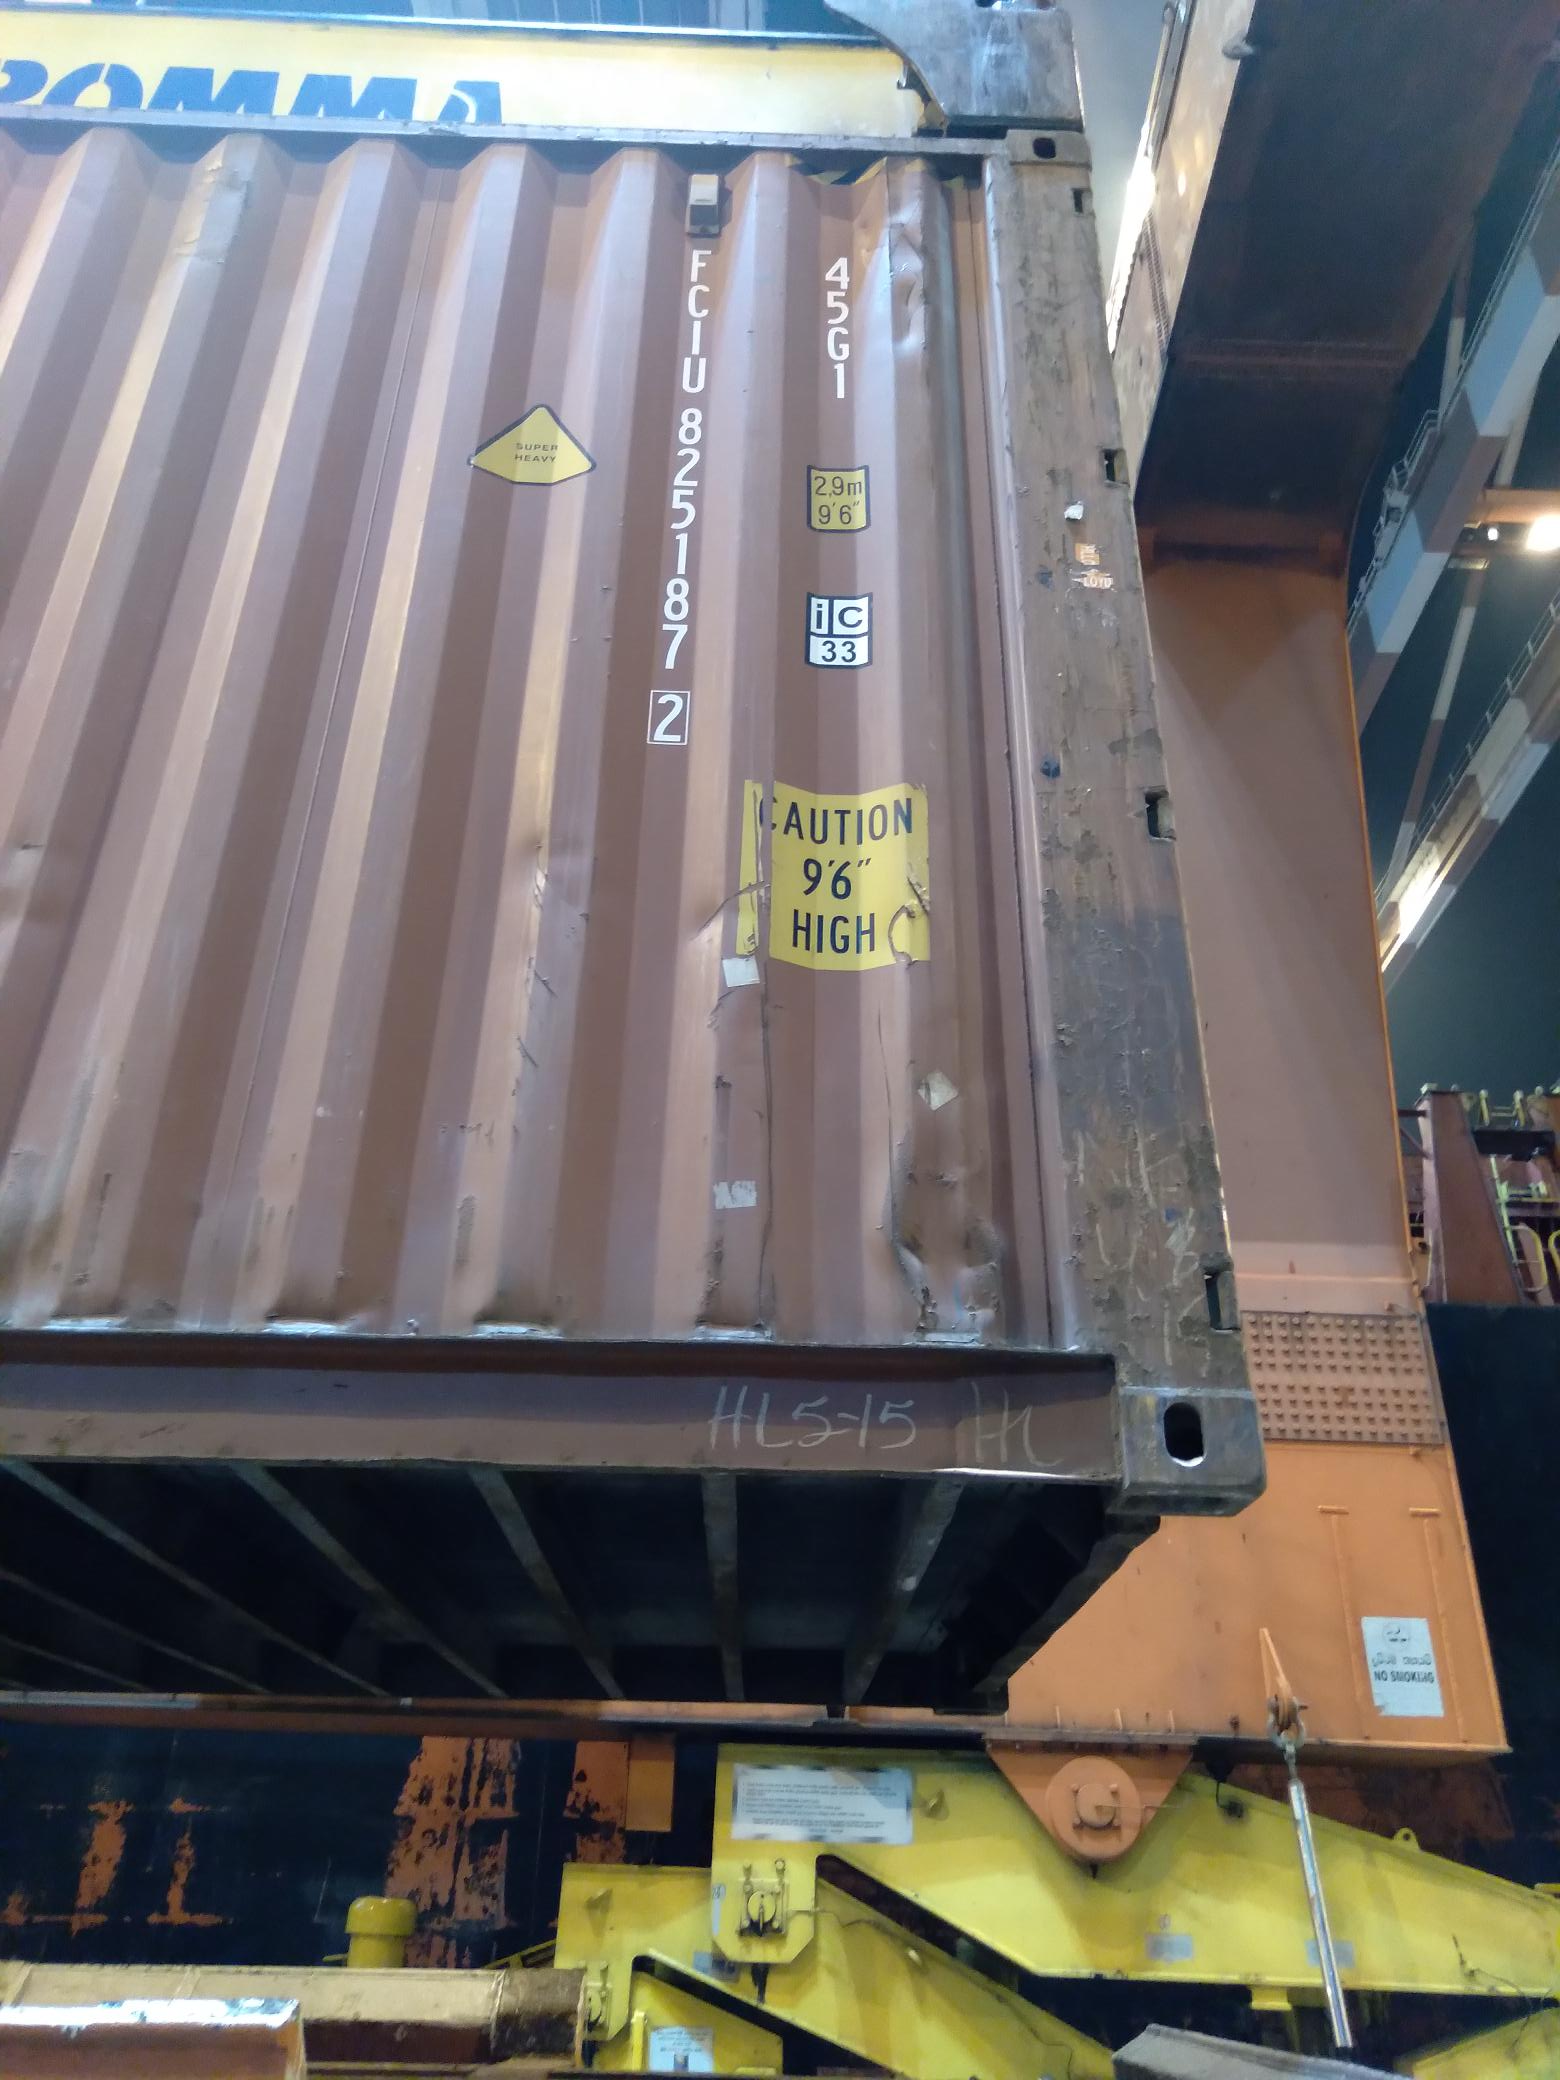dented: (867, 1097, 1018, 1343), (854, 200, 964, 400), (523, 799, 587, 942)
